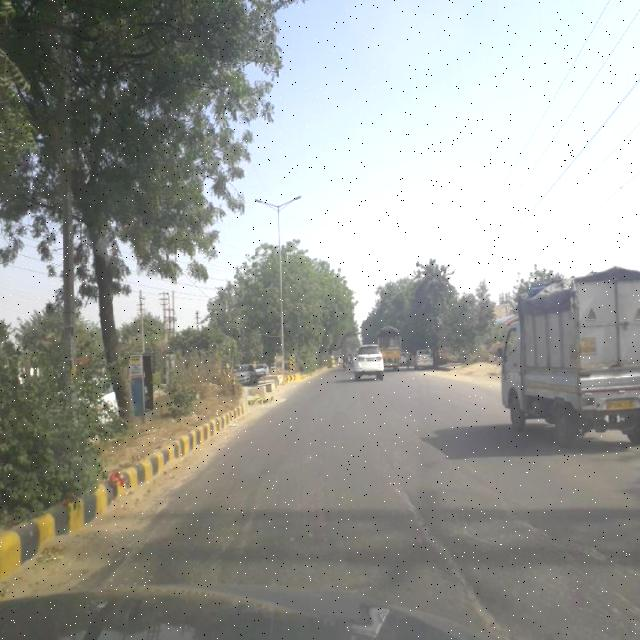D00: (386, 452, 502, 634)
